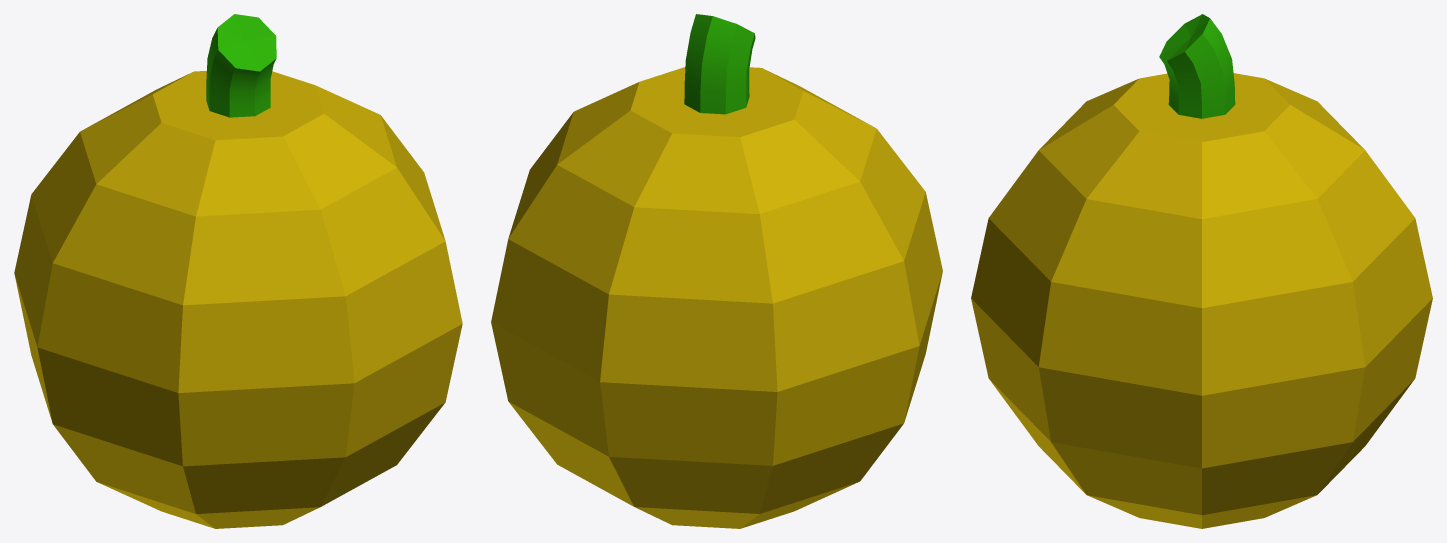
Rendered from orange.fbx.
The picture shows the model from 3 angles, left to right: view 1: azimuth 30°, elevation 25°; view 2: azimuth 150°, elevation 25°; view 3: azimuth 270°, elevation 25°; orthographic projection.
Visible parts, largest first — view 1: orange1; view 2: orange1; view 3: orange1.
Part boxes in pixels (x1=…): orange1: x1=14, y1=14, x2=462, y2=528; orange1: x1=491, y1=14, x2=942, y2=528; orange1: x1=971, y1=14, x2=1432, y2=528.
Size of the model in its own units: 81.64 by 95.42 by 81.64.
